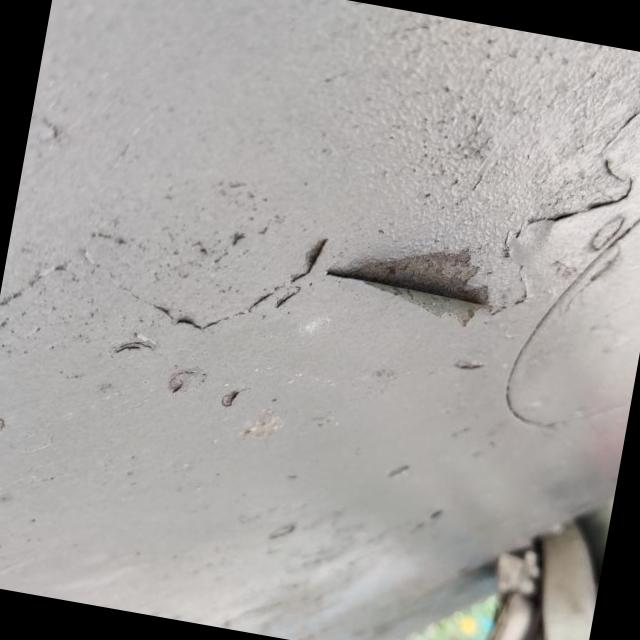Paint-off: (328, 248, 489, 325)
